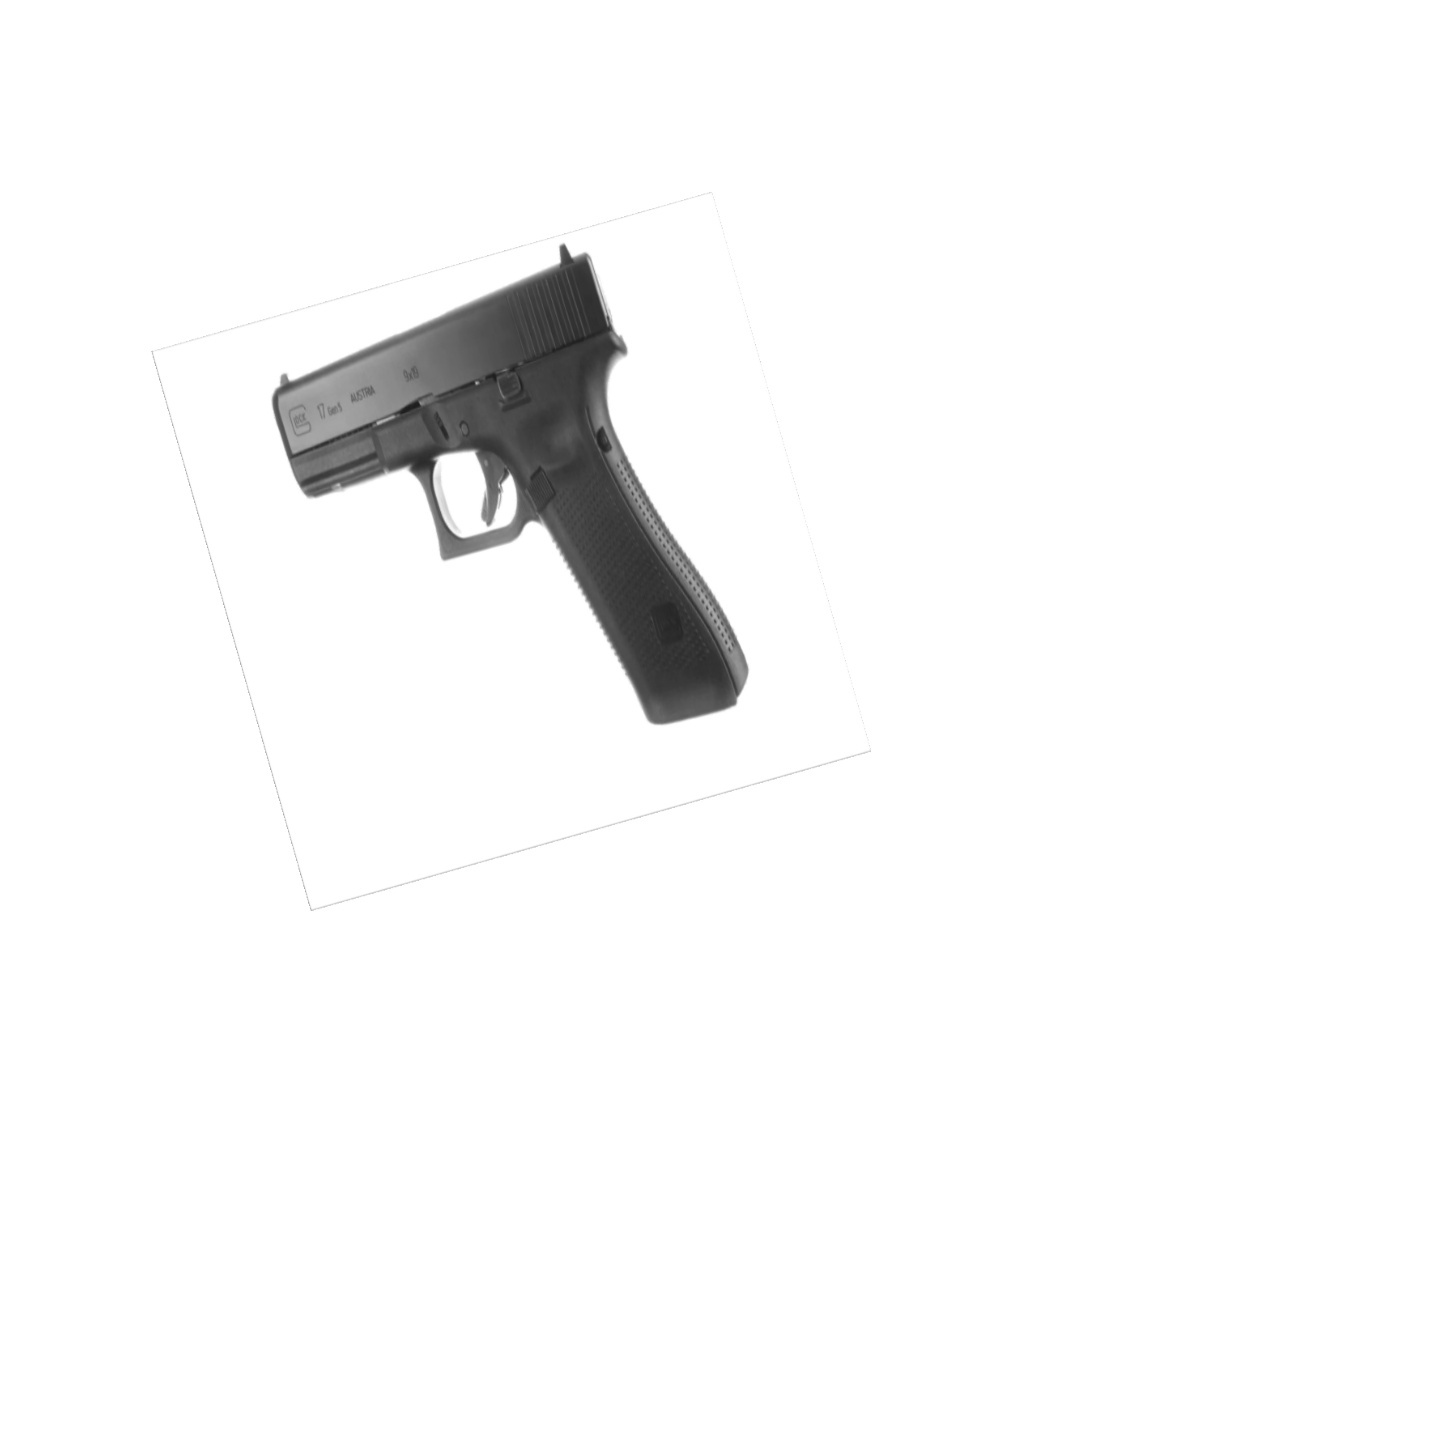gun: (270, 242, 751, 724)
